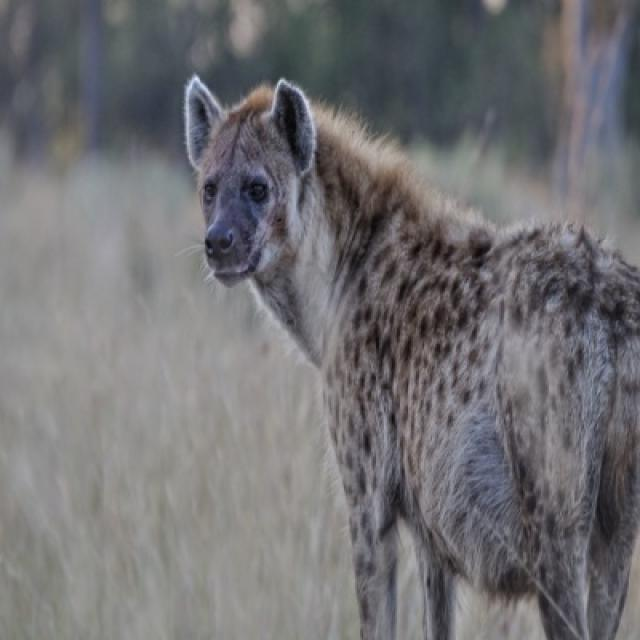hyena: (184, 77, 638, 638)
